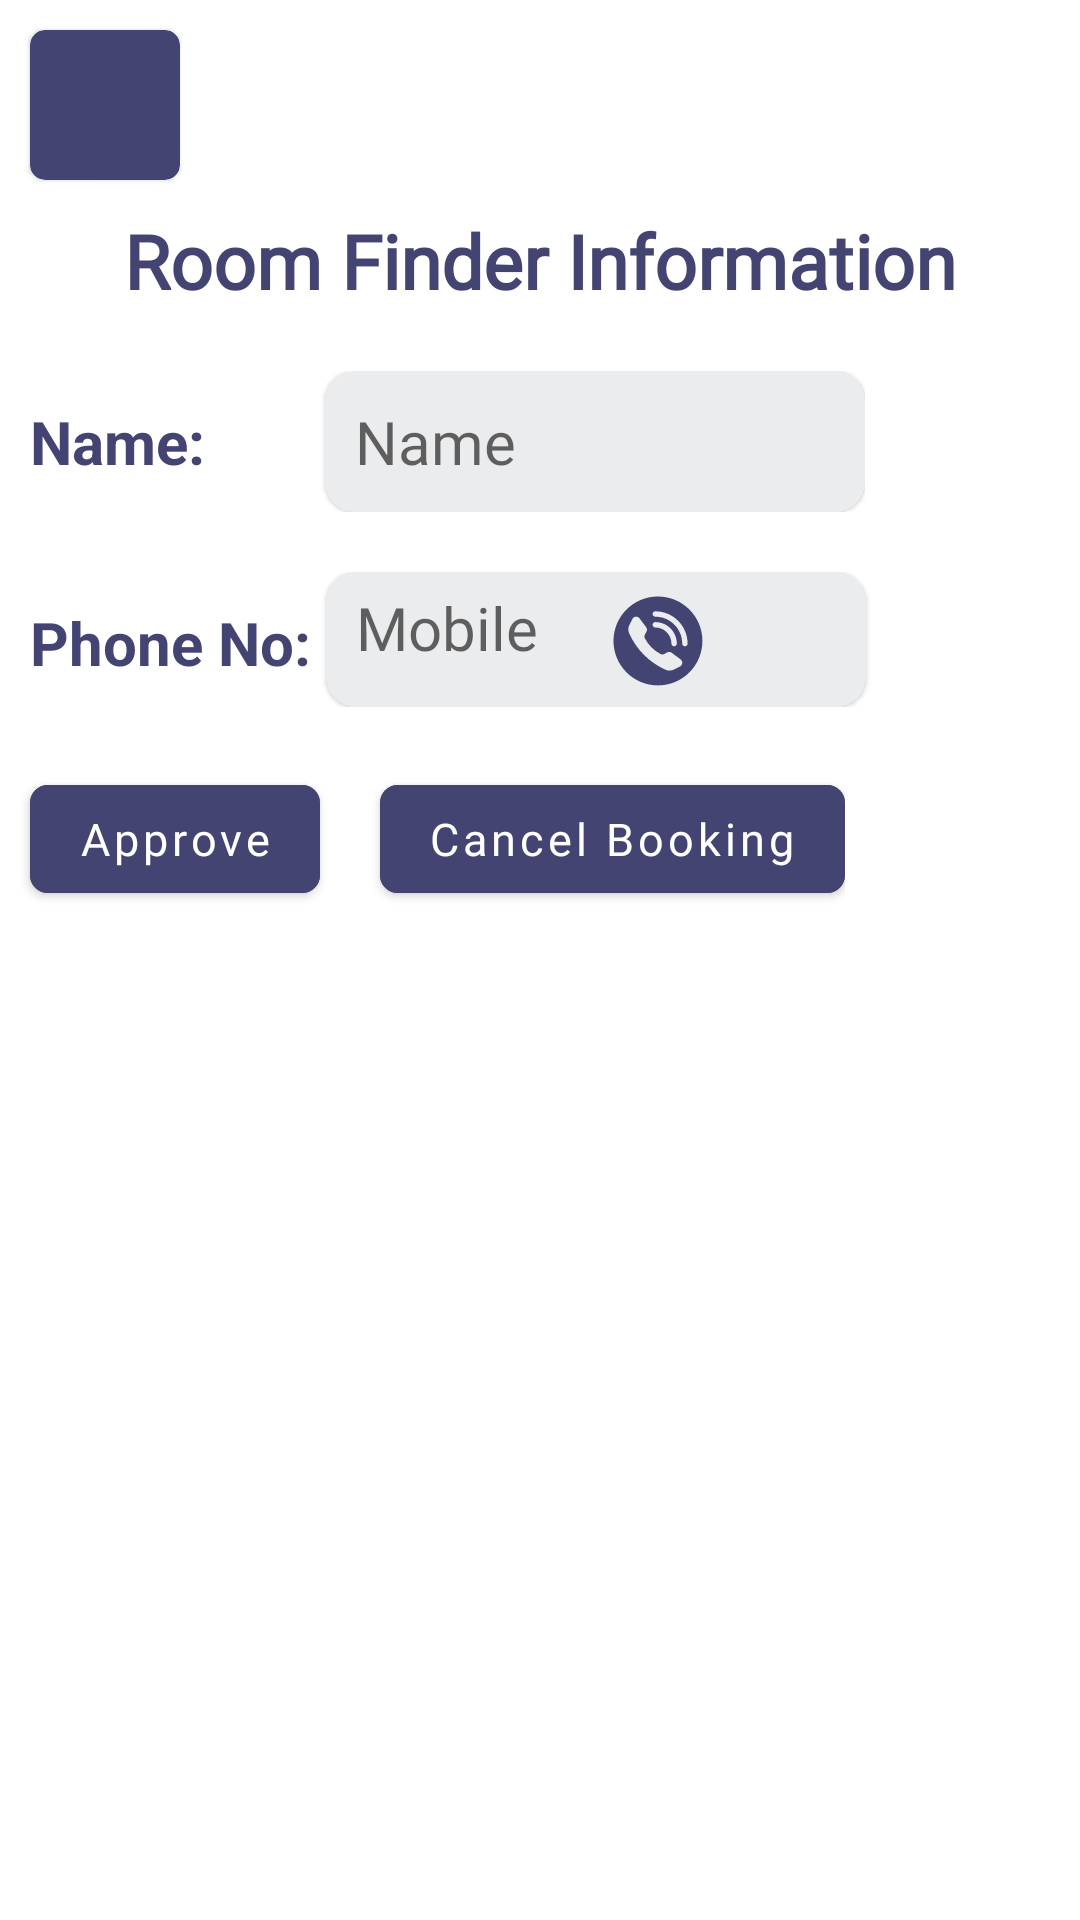

Named icons in this screenshot (1080px×1920px) and their centers, [x,y]:
phone call: [658,641]
